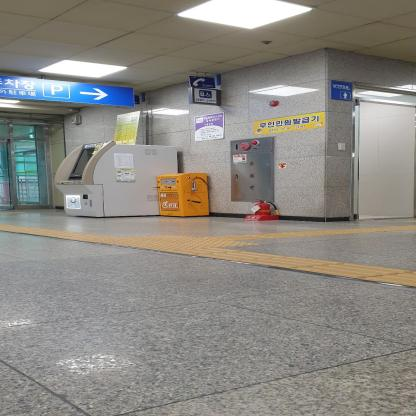go: (289, 263, 416, 279), (234, 256, 348, 268), (190, 251, 287, 261)
stop: (179, 240, 262, 247)
